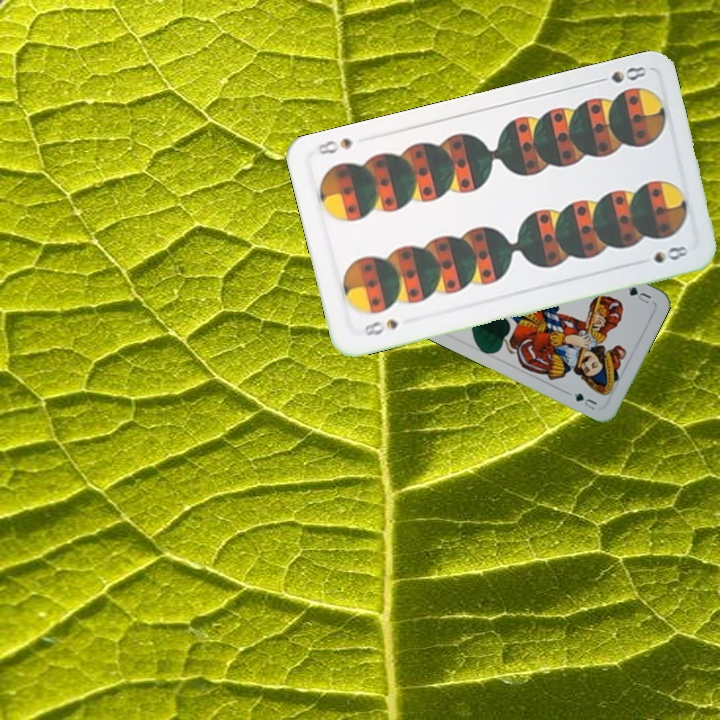GU: (623, 282, 654, 306)
S8: (591, 62, 649, 86), (354, 315, 401, 340)
